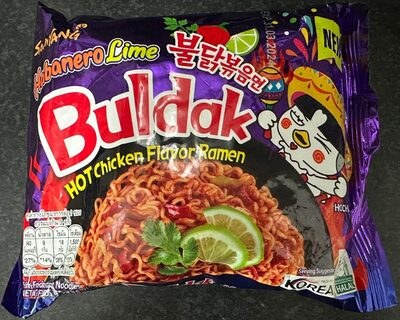Buldak Spicy Ramen: (20, 16, 380, 304)
